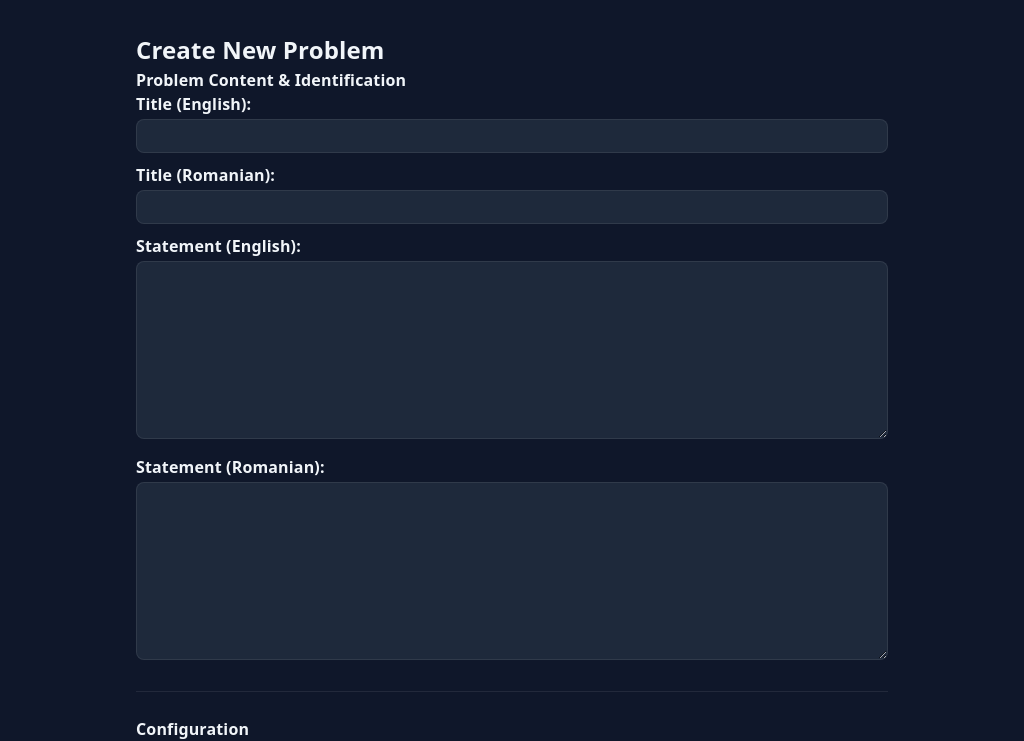
it: ProblemFormPage interactive problems (JDG-2) › blocks submit when INTERACTIVE lacks interactor code or language
Type "My Title" into the field labelled "Title (English):" at point(512, 136), box x1=136 y1=119 x2=888 y2=153
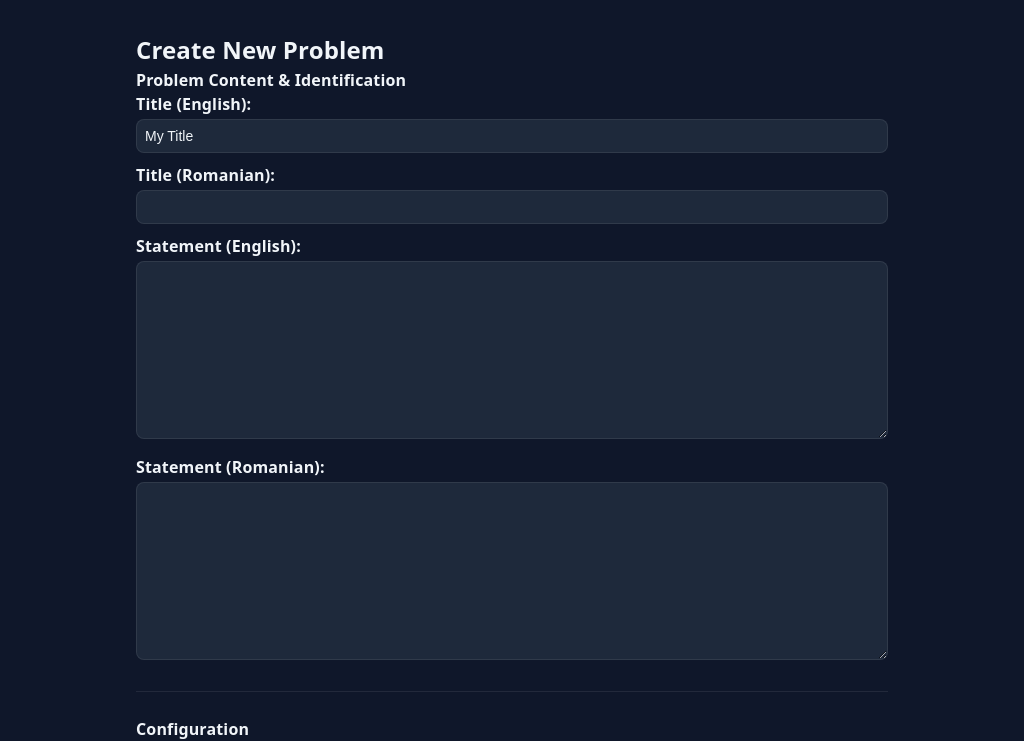
Type "Titlul Meu" into the field labelled "Title (Romanian):" at point(512, 207), box x1=136 y1=190 x2=888 y2=224
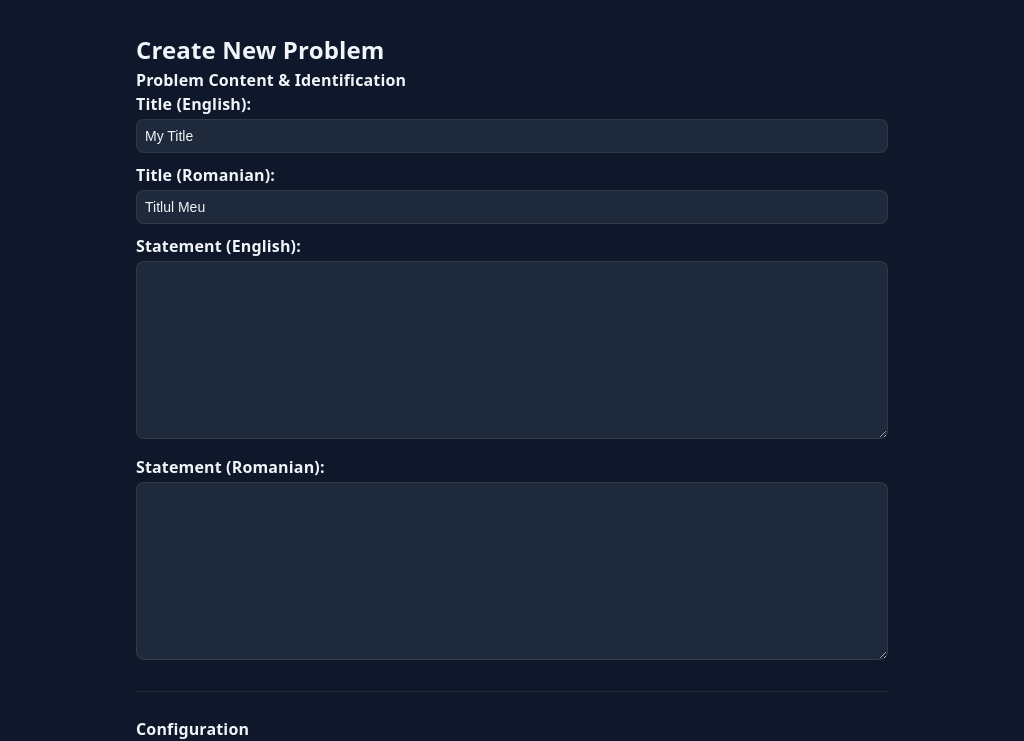
Type "Stmt EN" into the text box labelled "Statement (English):" at point(512, 350), box x1=136 y1=261 x2=888 y2=439
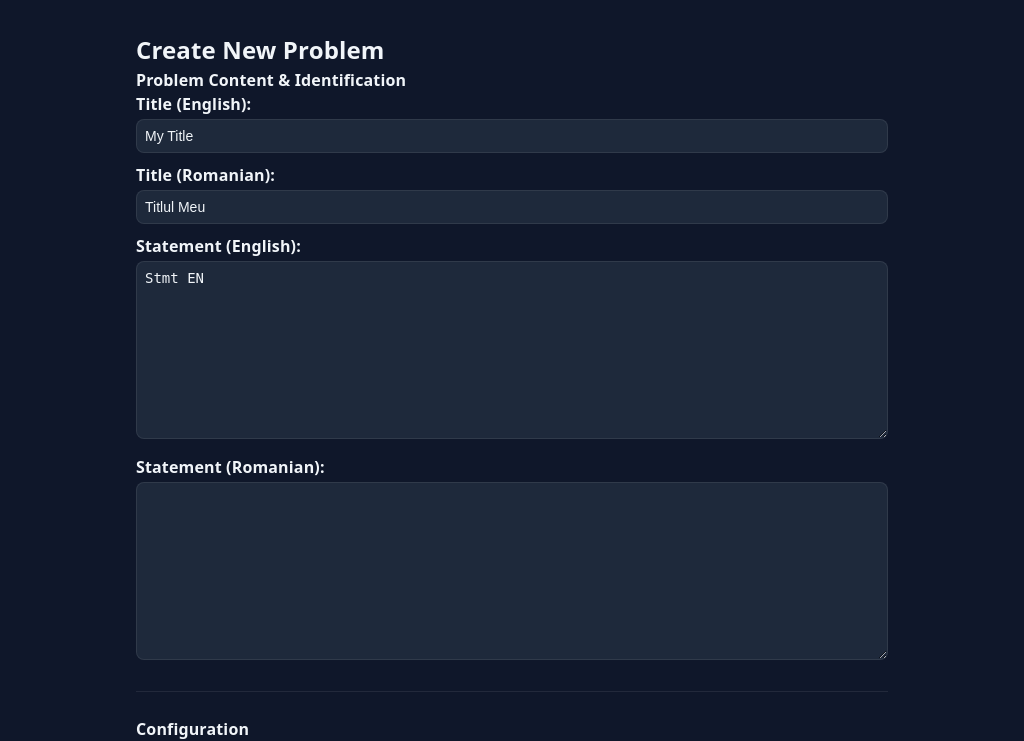
Type "Enunț RO" into the text box labelled "Statement (Romanian):" at point(512, 571), box x1=136 y1=482 x2=888 y2=660
(page scrolled)
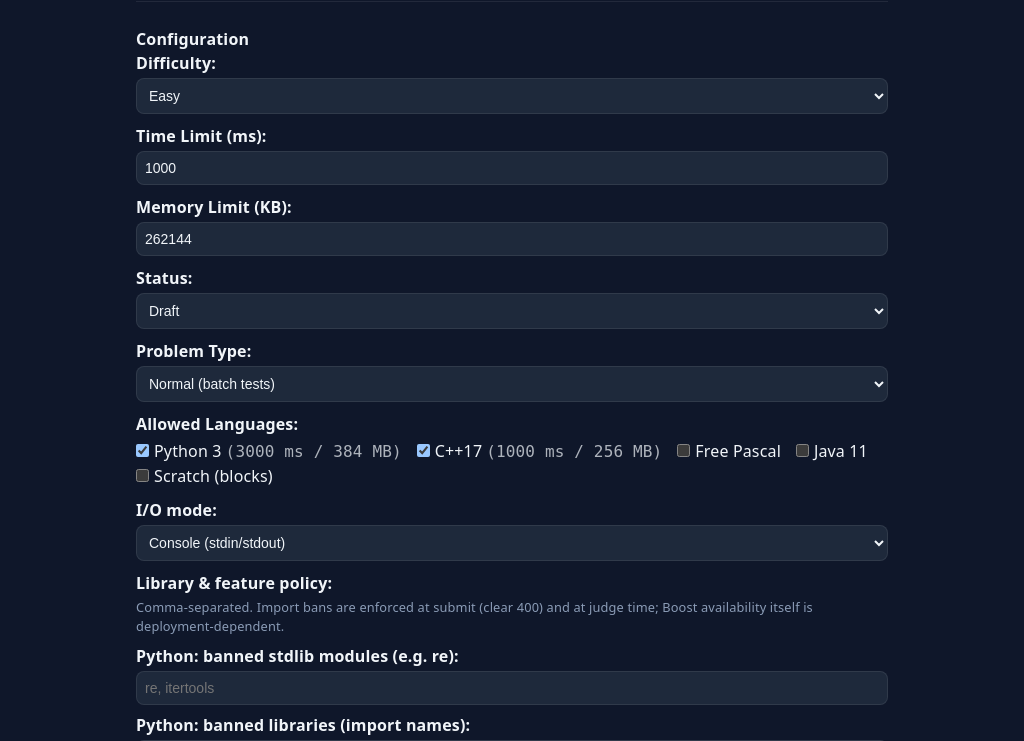
Select "Interactive (interactor protocol)" in the dropdown labelled "Problem Type:" at point(512, 384), box x1=136 y1=366 x2=888 y2=402
(page scrolled)
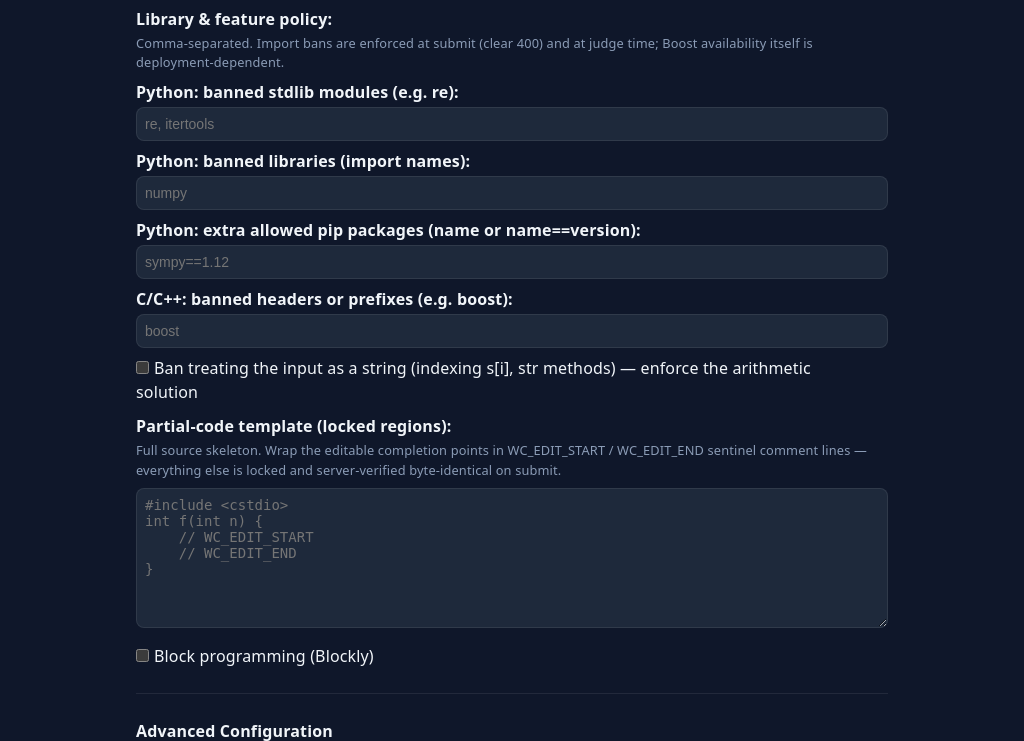
Submit the form named "Create Problem"
(page scrolled)
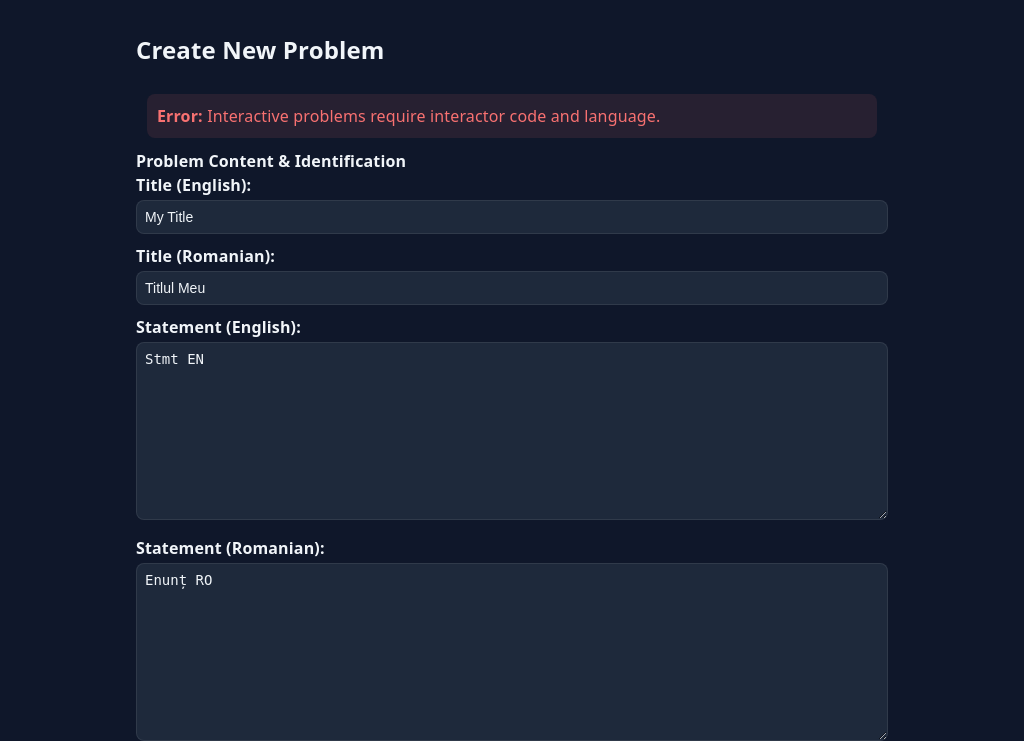
Result: the text "Error: Interactive problems require interactor code and language." is shown at x1=147 y1=94 x2=877 y2=138
